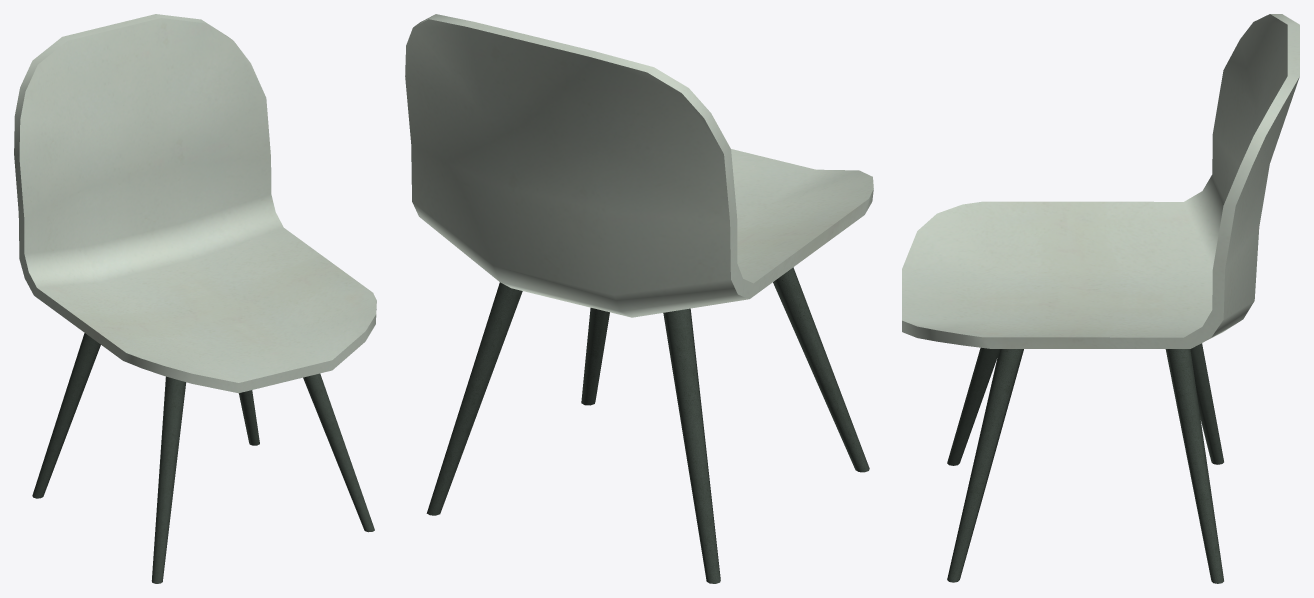
The model's file is LGSeochoB1ChairWhite.fbx.
3 views of the same model, side by side, from view 1: azimuth 30°, elevation 25°; view 2: azimuth 150°, elevation 25°; view 3: azimuth 270°, elevation 25° (orthographic). The views are drawn at different scales.
Parts seen in each view (by area): view 1: LGSeochoB1Plastic, LGSeochoB1Metal; view 2: LGSeochoB1Plastic, LGSeochoB1Metal; view 3: LGSeochoB1Plastic, LGSeochoB1Metal.
Part boxes in pixels (box(x1,y1,x2,y2)): LGSeochoB1Plastic: box(14, 14, 376, 393); LGSeochoB1Metal: box(32, 333, 374, 583); LGSeochoB1Plastic: box(405, 14, 873, 317); LGSeochoB1Metal: box(426, 267, 869, 583); LGSeochoB1Plastic: box(902, 14, 1299, 348); LGSeochoB1Metal: box(947, 343, 1223, 583).
Size of the model in its own units: 50 by 80.89 by 61.96.
